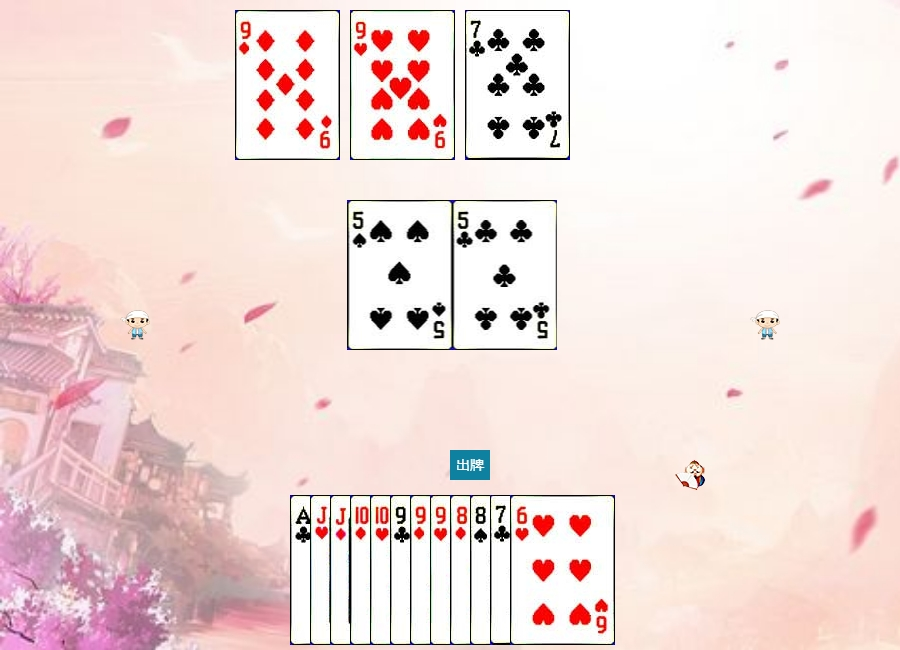10~1: (350, 495, 455, 645)
10~3: (370, 495, 475, 645)
11~1: (330, 495, 435, 645)
11~3: (310, 495, 415, 645)
14~2: (290, 495, 395, 645)
5~2: (453, 200, 558, 350)
5~4: (348, 200, 453, 350)
6~3: (510, 495, 615, 645)
7~2: (465, 10, 570, 160), (490, 495, 595, 645)
8~1: (450, 495, 555, 645)
8~4: (470, 495, 575, 645)
9~1: (235, 10, 340, 160), (410, 495, 515, 645)
9~2: (390, 495, 495, 645)
9~3: (350, 10, 455, 160), (430, 495, 535, 645)
